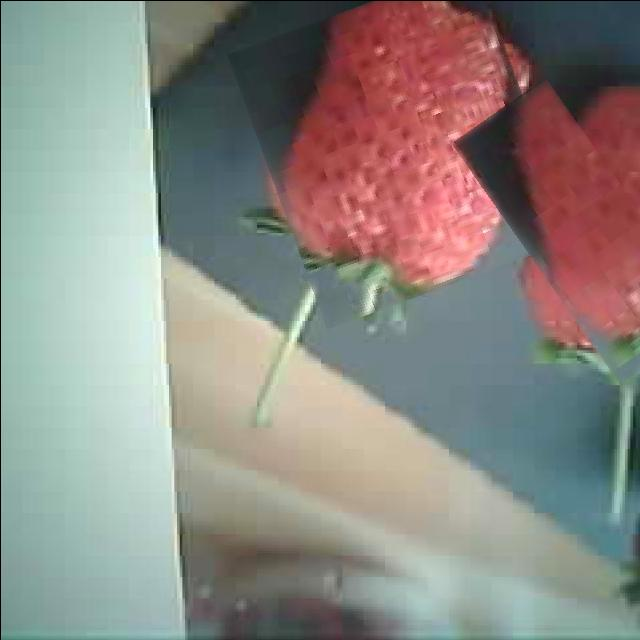strawberry: (248, 0, 553, 311), (489, 80, 640, 380)
